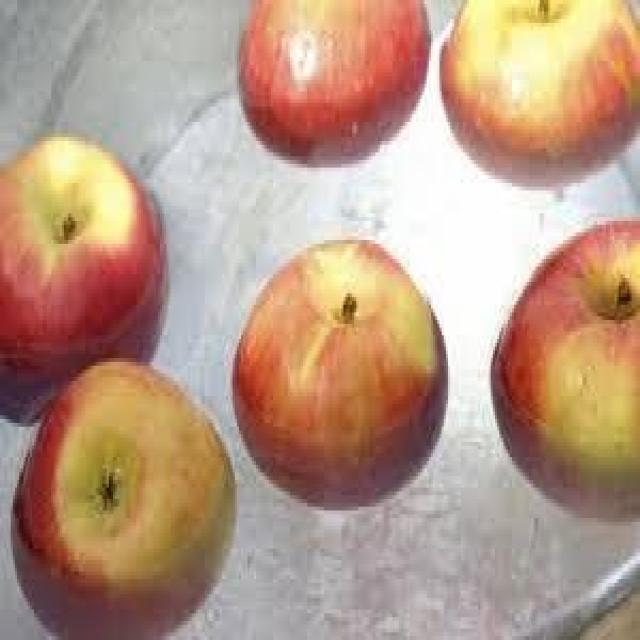maca: (10, 354, 236, 632), (230, 232, 448, 507)
